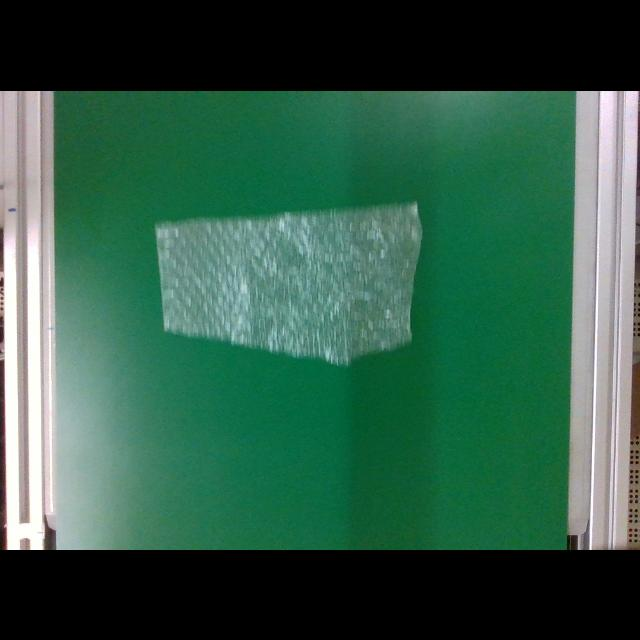scrap_plastic: (124, 180, 444, 380), (154, 198, 422, 368), (154, 219, 422, 369)
